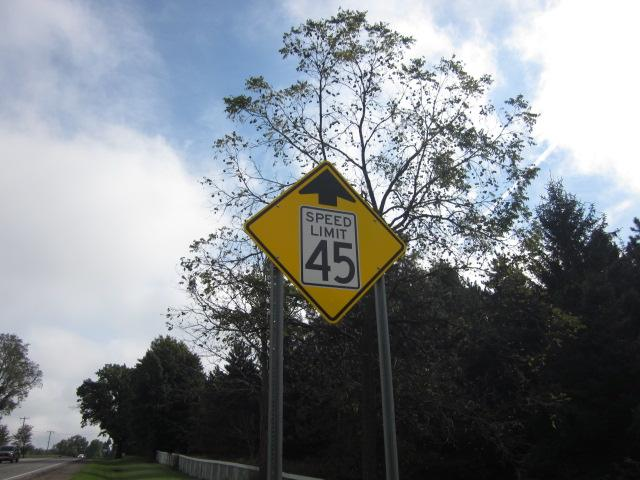regulatory: (299, 209, 365, 297)
warning: (246, 160, 413, 323)
